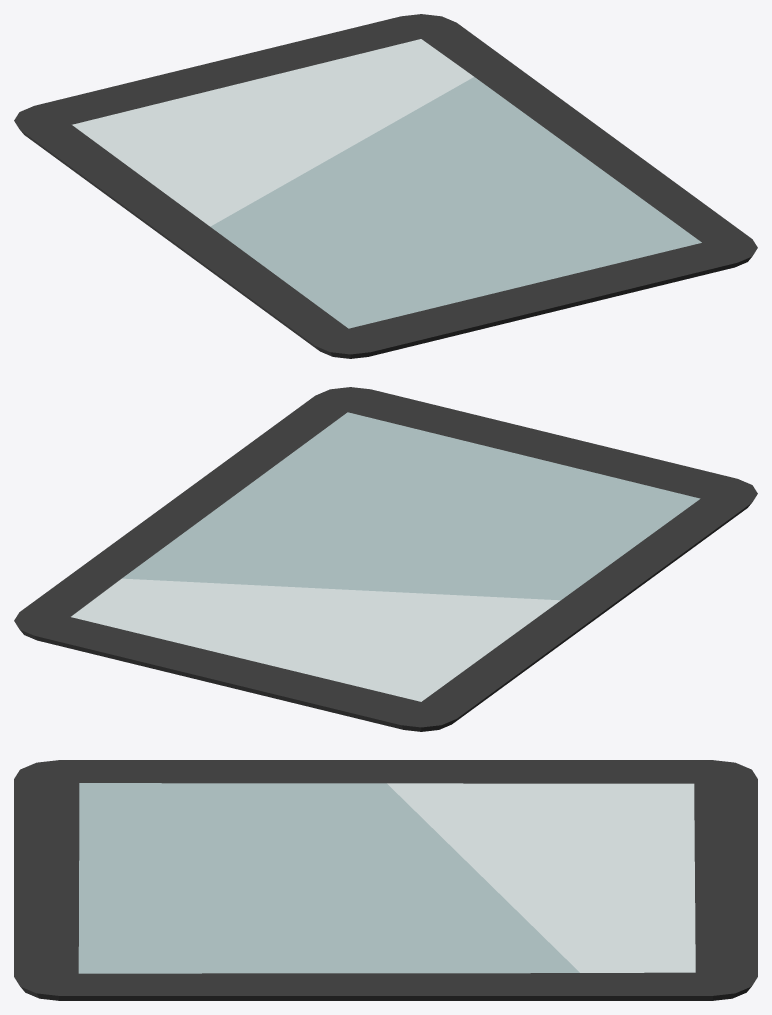
Rendered from 1350 Tablet.obj.
3 views of the same model, one above another, from view 1: azimuth 30°, elevation 25°; view 2: azimuth 150°, elevation 25°; view 3: azimuth 270°, elevation 25° (orthographic). The views are drawn at different scales.
Visible parts, largest first — view 1: Tablet; view 2: Tablet; view 3: Tablet.
Boxes of the visible parts, left/top/right/bottom form: Tablet: left=14, top=14, right=757, bottom=358; Tablet: left=14, top=387, right=757, bottom=731; Tablet: left=14, top=760, right=757, bottom=1000.
Size of the model in its own units: 53.76 by 1.6 by 71.68.
1 material, 1 textured.
